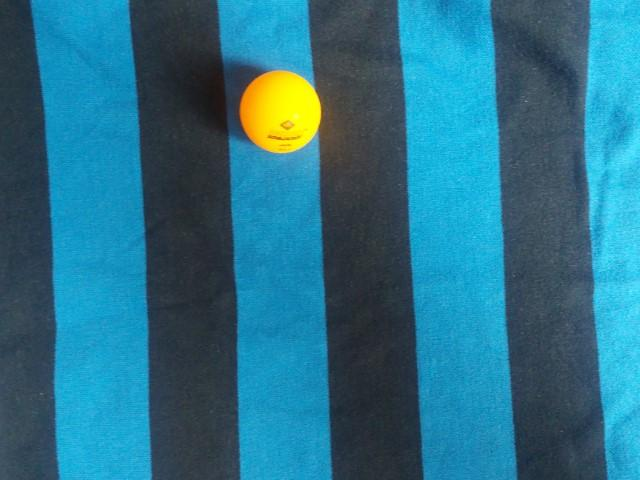oball: (309, 318, 407, 415)
